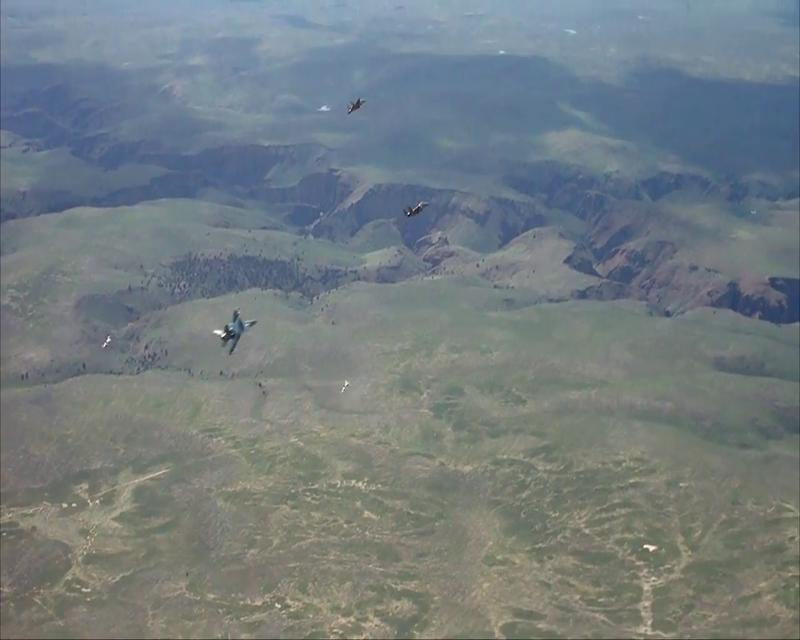UAV: (211, 307, 258, 355), (404, 198, 431, 217), (346, 96, 368, 118)
